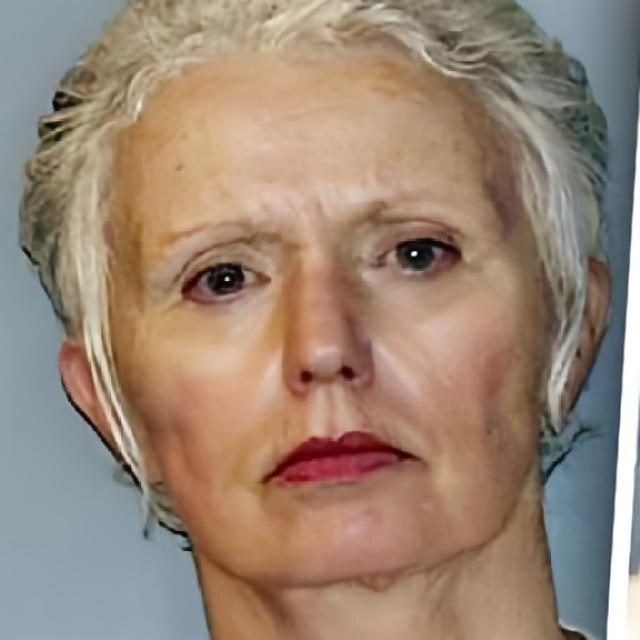anger: (114, 35, 549, 582)
